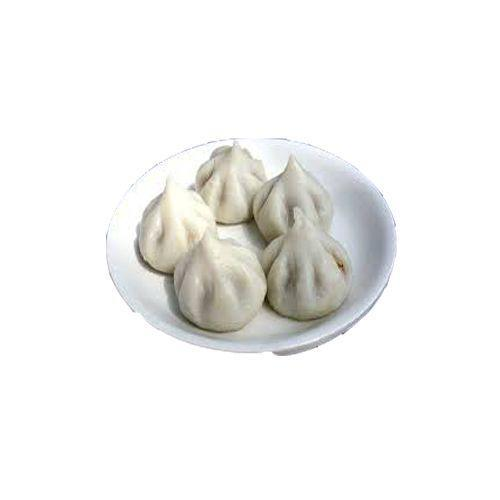modak: (126, 129, 370, 349)
